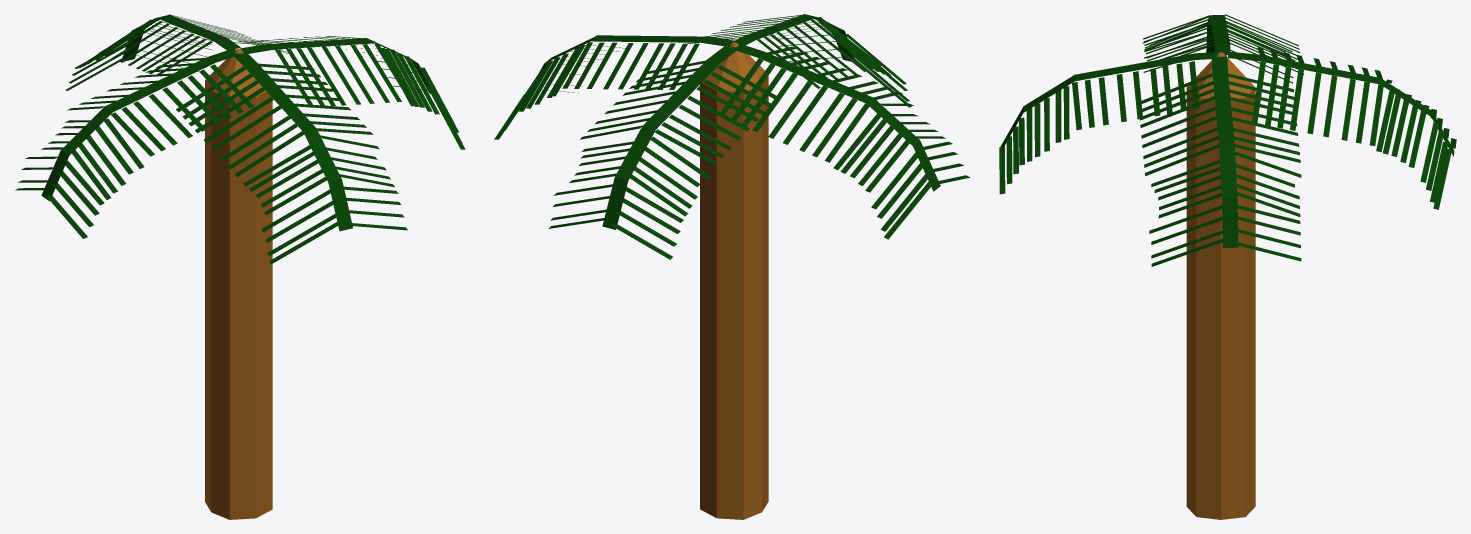
Rendered from tree11.obj.
3 views of the same model, side by side, from view 1: azimuth 30°, elevation 25°; view 2: azimuth 150°, elevation 25°; view 3: azimuth 270°, elevation 25° (orthographic).
Parts seen in each view (by area): view 1: Cube, Plane.000_Plane.047, Plane.003_Plane.050, Plane.002_Plane.049, Plane.001_Plane.048; view 2: Cube, Plane.001_Plane.048, Plane.003_Plane.050, Plane.002_Plane.049, Plane.000_Plane.047; view 3: Cube, Plane.002_Plane.049, Plane.001_Plane.048, Plane.000_Plane.047, Plane.003_Plane.050.
Part boxes in pixels (x1,y1,x2,y2): Cube: (205,48,272,519); Plane.000_Plane.047: (176,48,407,264); Plane.003_Plane.050: (15,48,254,238); Plane.002_Plane.049: (234,36,465,149); Plane.001_Plane.048: (65,14,288,90); Cube: (700,42,768,519); Plane.001_Plane.048: (548,46,776,259); Plane.003_Plane.050: (720,43,970,239); Plane.002_Plane.049: (494,35,736,139); Plane.000_Plane.047: (687,14,911,107); Cube: (1186,52,1255,519); Plane.002_Plane.049: (1140,56,1301,266); Plane.001_Plane.048: (1228,47,1456,209); Plane.000_Plane.047: (999,51,1226,194); Plane.003_Plane.050: (1142,14,1303,83).
Bounding box in the file's own units: 4.19 × 4.58 × 4.19.
